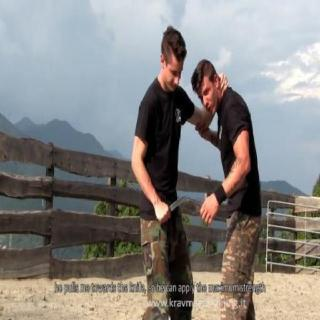knife: (156, 191, 188, 225)
